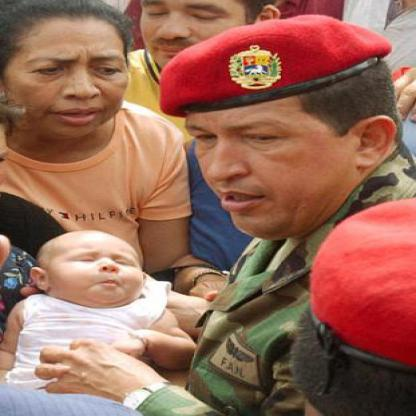face: (163, 50, 355, 241), (3, 4, 134, 140), (136, 1, 247, 78), (37, 232, 148, 308)
